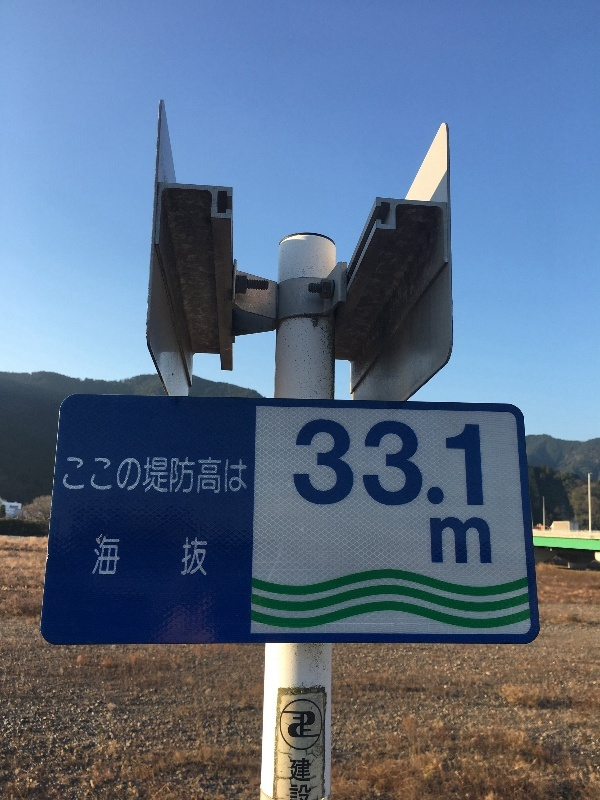text: (305, 416, 320, 511), (321, 416, 336, 511), (337, 416, 352, 511), (353, 416, 368, 511), (369, 416, 384, 511), (385, 416, 400, 511), (401, 416, 416, 511), (417, 416, 432, 511), (433, 416, 448, 511), (449, 416, 464, 511), (465, 416, 480, 511), (433, 516, 448, 569), (449, 516, 464, 569), (465, 516, 480, 569), (296, 416, 304, 511), (481, 416, 489, 511), (97, 534, 112, 584), (113, 534, 128, 584), (129, 534, 144, 584), (145, 534, 160, 584), (161, 534, 176, 584), (177, 534, 192, 584), (193, 534, 208, 584), (481, 516, 495, 569), (65, 451, 80, 499), (81, 451, 96, 499), (97, 451, 112, 499), (113, 451, 128, 499), (129, 451, 144, 499), (145, 451, 160, 499), (161, 451, 176, 499), (177, 451, 192, 499), (193, 451, 208, 499), (209, 451, 224, 499), (225, 451, 240, 499), (289, 755, 304, 799), (241, 451, 249, 499), (427, 516, 432, 569), (305, 755, 310, 799), (95, 534, 96, 584), (63, 451, 64, 499), (287, 755, 288, 799)
